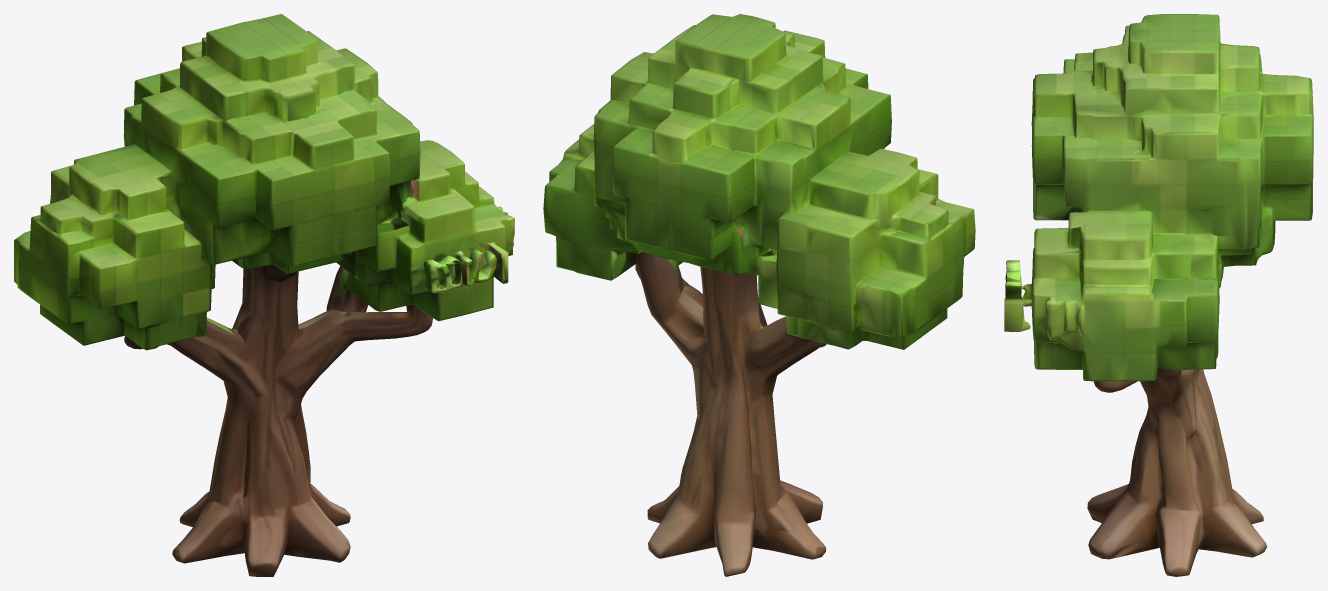
File: tree.glb
3 renders of one model, left to right at view 1: azimuth 30°, elevation 25°; view 2: azimuth 150°, elevation 25°; view 3: azimuth 270°, elevation 25°, orthographic.
Visible parts, largest first — view 1: Tree; view 2: Tree; view 3: Tree.
Boxes of the visible parts, left/top/right/bottom form: Tree: left=14, top=14, right=514, bottom=576; Tree: left=543, top=14, right=975, bottom=576; Tree: left=1004, top=14, right=1313, bottom=576.
Bounding box in the file's own units: 0.3207 × 0.38 × 0.2102.
Materials: 1 (1 with a texture image).
